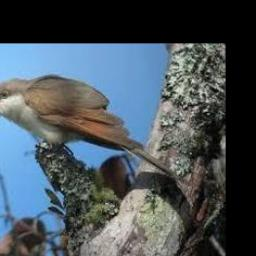Cuckoo: (0, 75, 177, 180)
